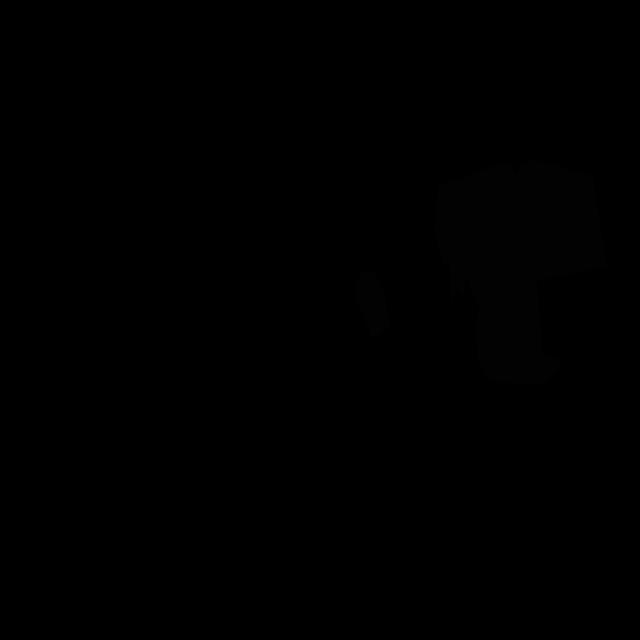cardboard: (434, 163, 561, 385), (514, 160, 607, 280), (355, 272, 391, 340)
